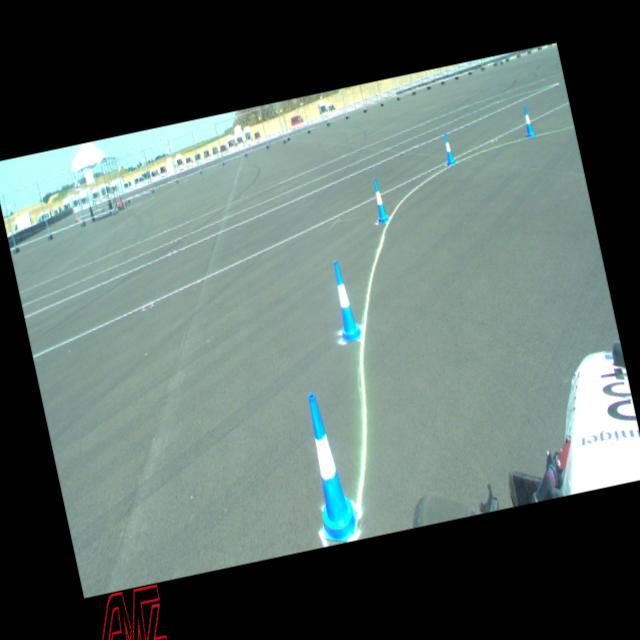blue_cone: (292, 388, 362, 544), (325, 257, 363, 343), (370, 178, 390, 223), (440, 131, 456, 165), (520, 104, 535, 138)
